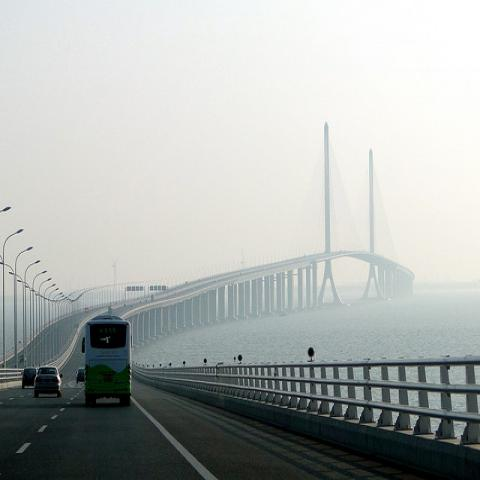bus: (82, 313, 132, 406)
car: (34, 365, 64, 399), (20, 368, 38, 388), (75, 368, 85, 384)
